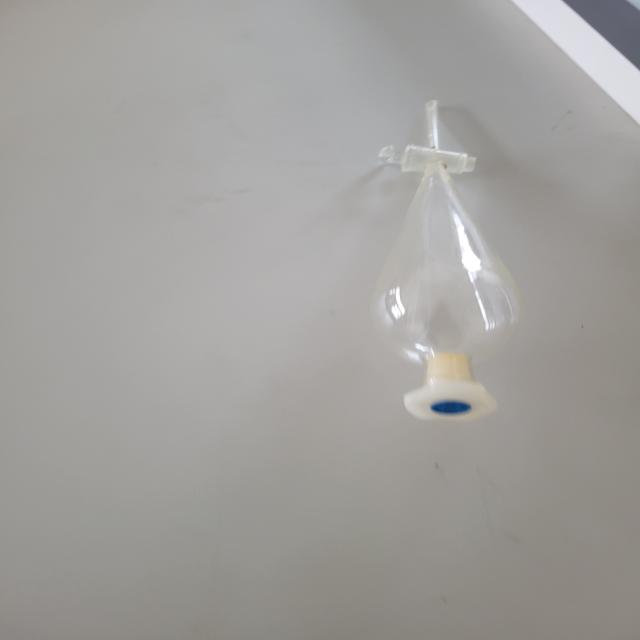Separating_Funnel: (343, 55, 577, 468)
